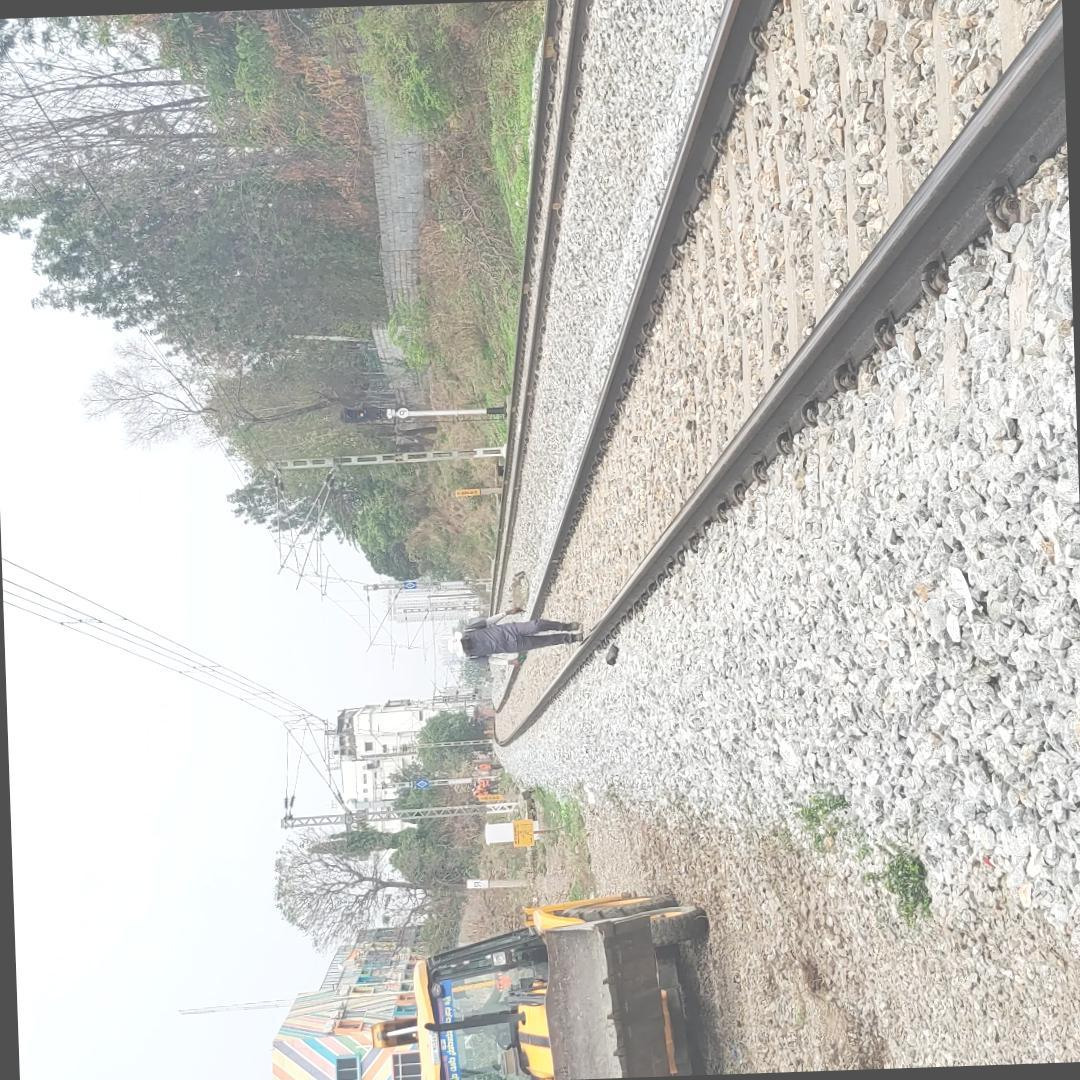standing: (436, 599, 591, 675)
track: (484, 0, 1070, 762)
